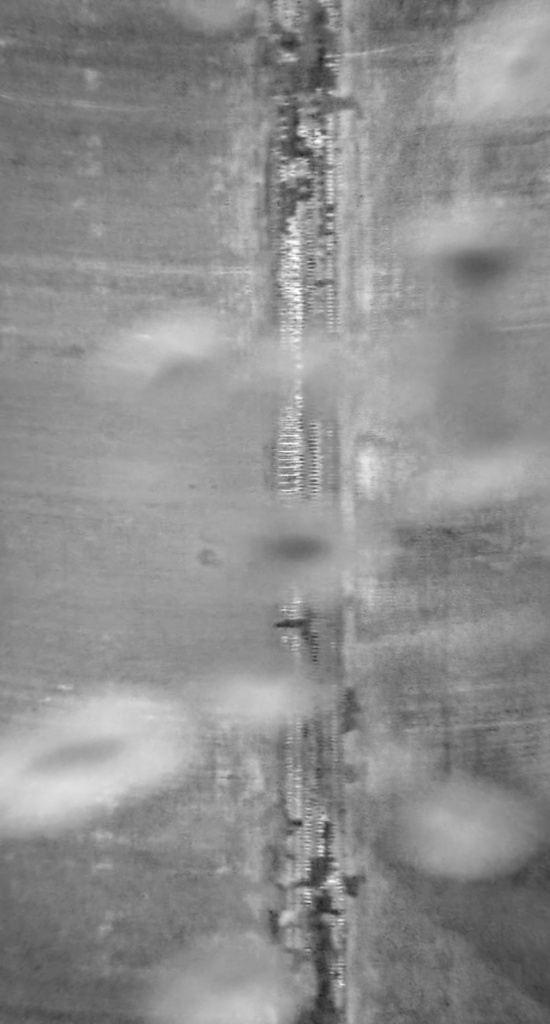splice: (261, 1, 348, 1023)
